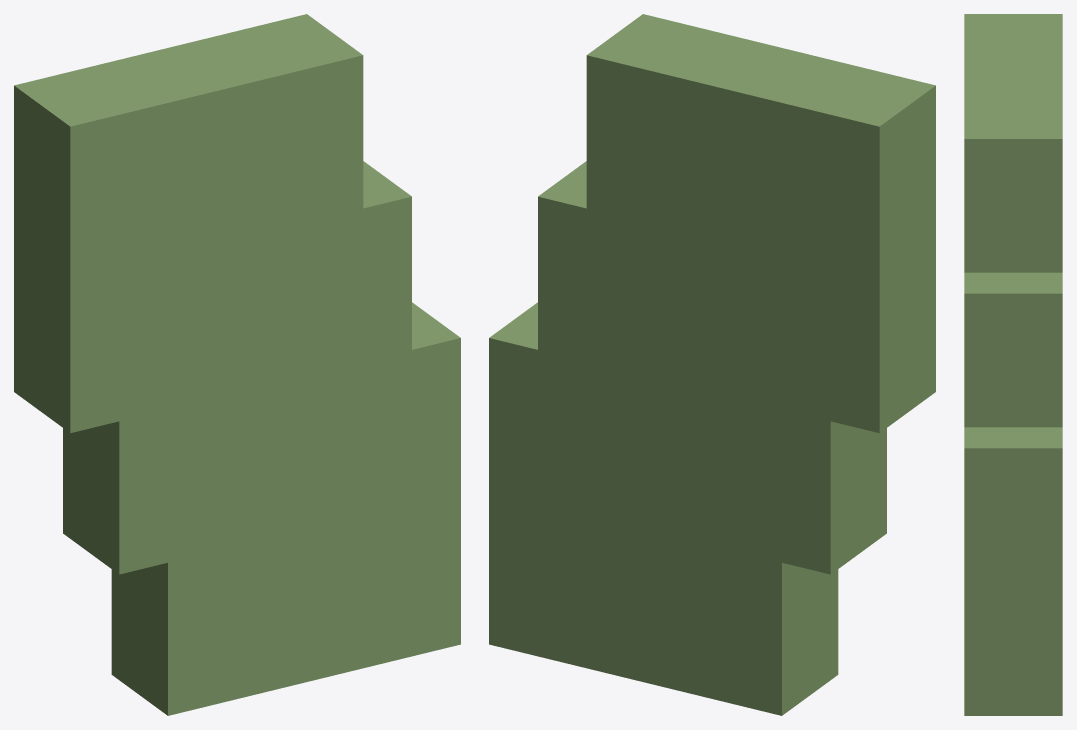
Rendered from chumbera_01.glb.
The picture shows the model from 3 angles, left to right: view 1: azimuth 30°, elevation 25°; view 2: azimuth 150°, elevation 25°; view 3: azimuth 270°, elevation 25°; orthographic projection. The views are drawn at different scales.
Parts seen in each view (by area): view 1: chumbera_01; view 2: chumbera_01; view 3: chumbera_01.
Boxes of the visible parts, box(x1,y1,x2,y2) form: chumbera_01: box(14, 14, 460, 715); chumbera_01: box(489, 14, 935, 715); chumbera_01: box(964, 14, 1062, 715).
Bounding box in the file's own units: 0.8 × 1.2 × 0.2.
